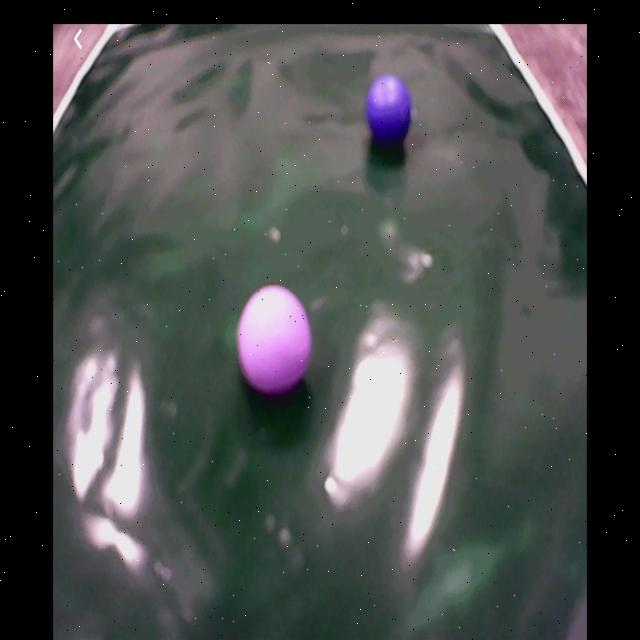ball: (241, 286, 310, 402), (369, 77, 414, 146)
